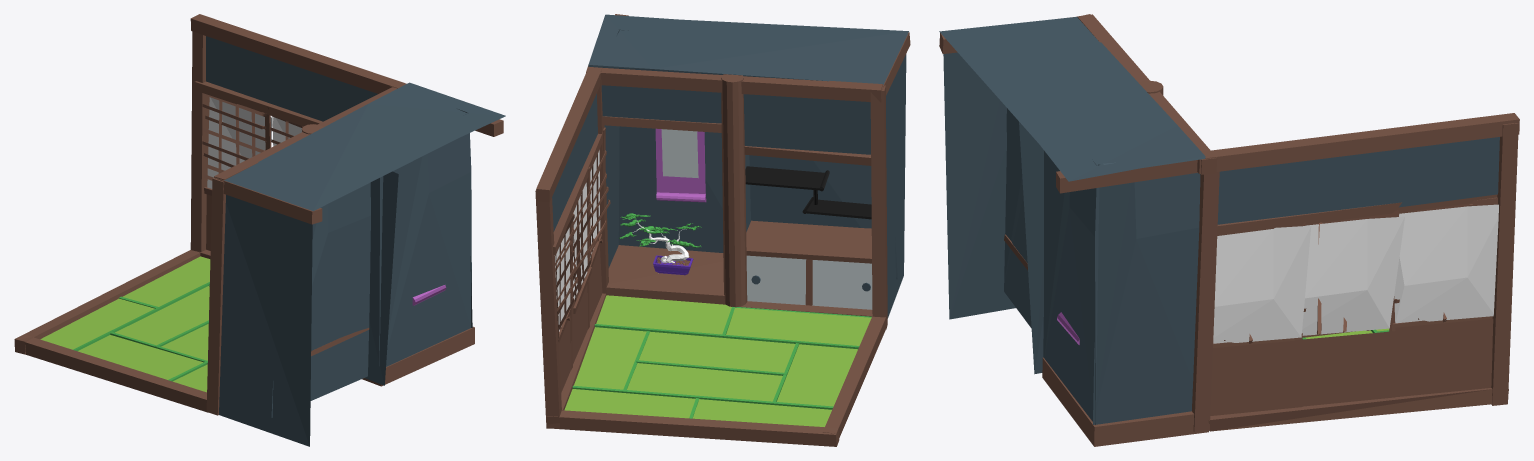
Rendered from JapaneseRoom.glb.
The picture shows the model from 3 angles, left to right: view 1: azimuth 30°, elevation 25°; view 2: azimuth 150°, elevation 25°; view 3: azimuth 270°, elevation 25°; orthographic projection. The views are drawn at different scales.
Parts seen in each view (by area): view 1: Node; view 2: Node; view 3: Node.
Part boxes in pixels (x1,y1,x2,y2): Node: (14, 14, 505, 446); Node: (535, 14, 910, 446); Node: (939, 14, 1519, 446).
Bounding box in the file's own units: 0.9078 × 0.6023 × 1.05.
